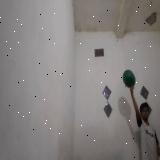Helmet: (122, 70, 136, 90)
